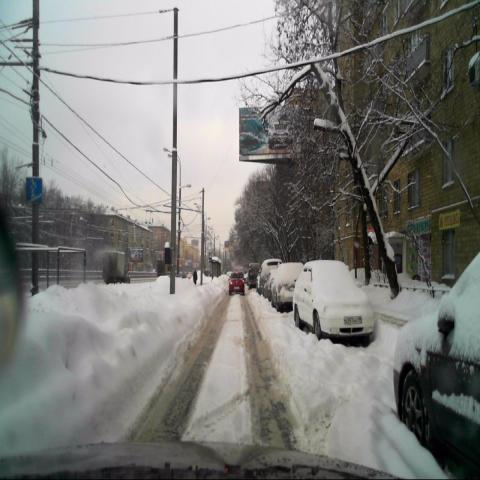6_6: (26, 178, 43, 206)
